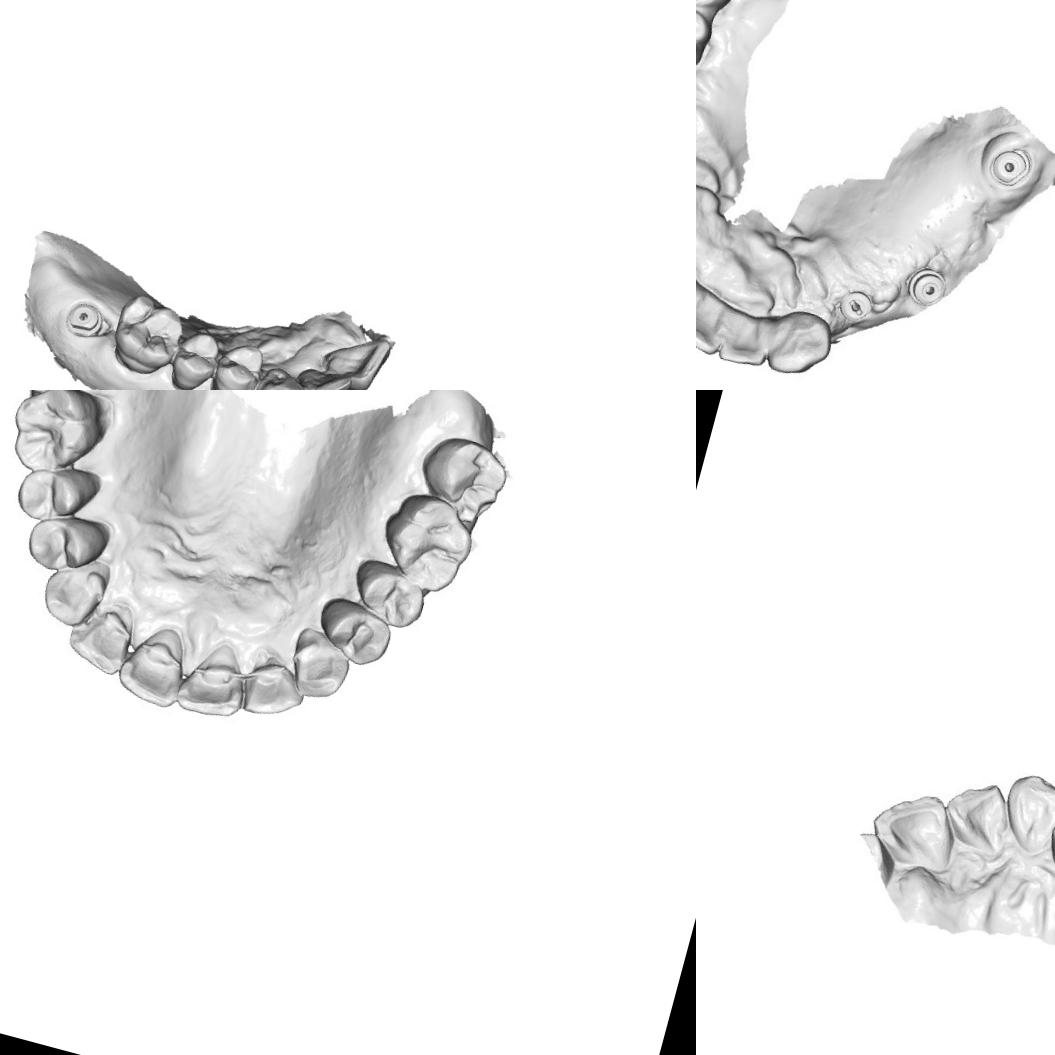canine: (762, 302, 840, 384), (992, 765, 1055, 862), (39, 552, 109, 628), (286, 629, 351, 702), (245, 359, 312, 390)
implant: (904, 261, 954, 311), (982, 140, 1032, 189), (60, 295, 106, 343)
implant_minus: (835, 283, 878, 329)
incisor: (860, 778, 968, 885), (109, 612, 204, 720), (171, 629, 260, 735), (934, 770, 1022, 861), (60, 592, 143, 682), (312, 322, 393, 390), (241, 646, 314, 721), (718, 309, 776, 373), (696, 288, 737, 359), (288, 360, 354, 390)
molar: (374, 484, 480, 594), (3, 390, 112, 483), (417, 428, 515, 526), (104, 286, 192, 381)
premolar: (311, 594, 398, 674), (348, 556, 433, 630), (25, 506, 109, 580), (17, 458, 100, 530), (164, 323, 224, 390), (205, 335, 268, 390)
